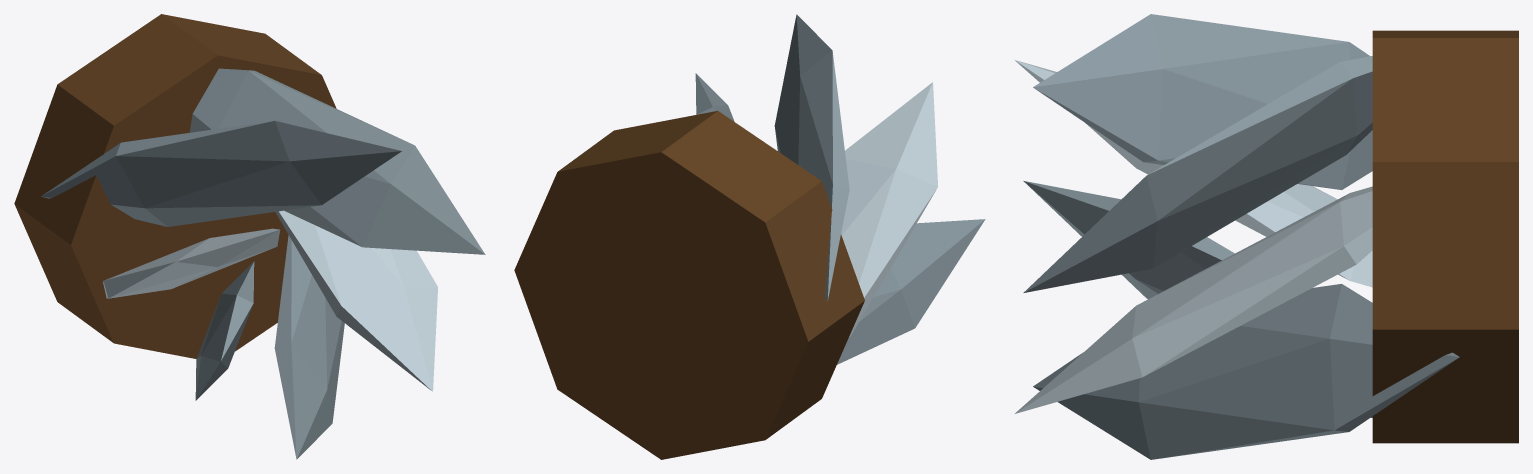
File: 2_sprouting.obj
The picture shows the model from 3 angles, left to right: view 1: azimuth 30°, elevation 25°; view 2: azimuth 150°, elevation 25°; view 3: azimuth 270°, elevation 25°; orthographic projection. The views are drawn at different scales.
Parts seen in each view (by area): view 1: dwarfweed_2_sprouting; view 2: dwarfweed_2_sprouting; view 3: dwarfweed_2_sprouting.
Part boxes in pixels (x1=…): dwarfweed_2_sprouting: x1=14, y1=14, x2=485, y2=459; dwarfweed_2_sprouting: x1=514, y1=14, x2=985, y2=459; dwarfweed_2_sprouting: x1=1015, y1=14, x2=1518, y2=459.
Size of the model in its own units: 0.12 by 0.1235 by 0.138.
